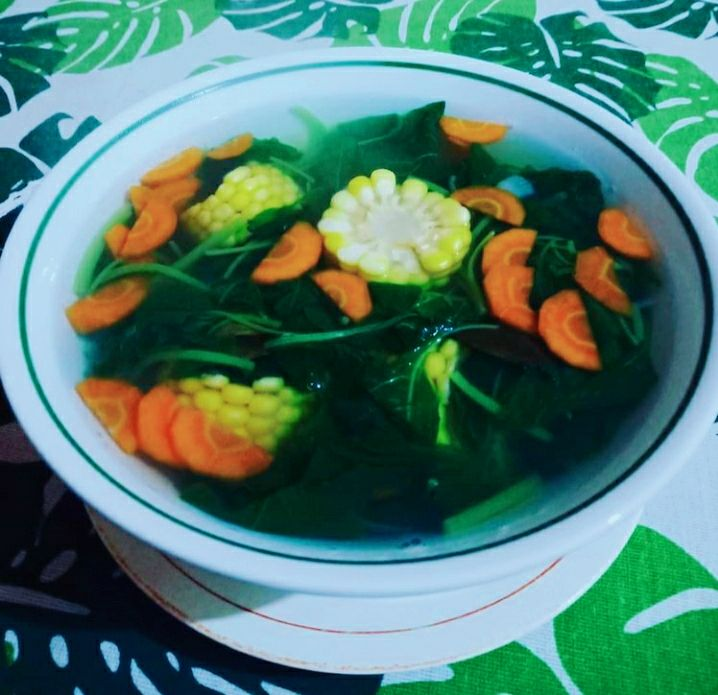Sayur Bayam: (101, 78, 652, 512)
